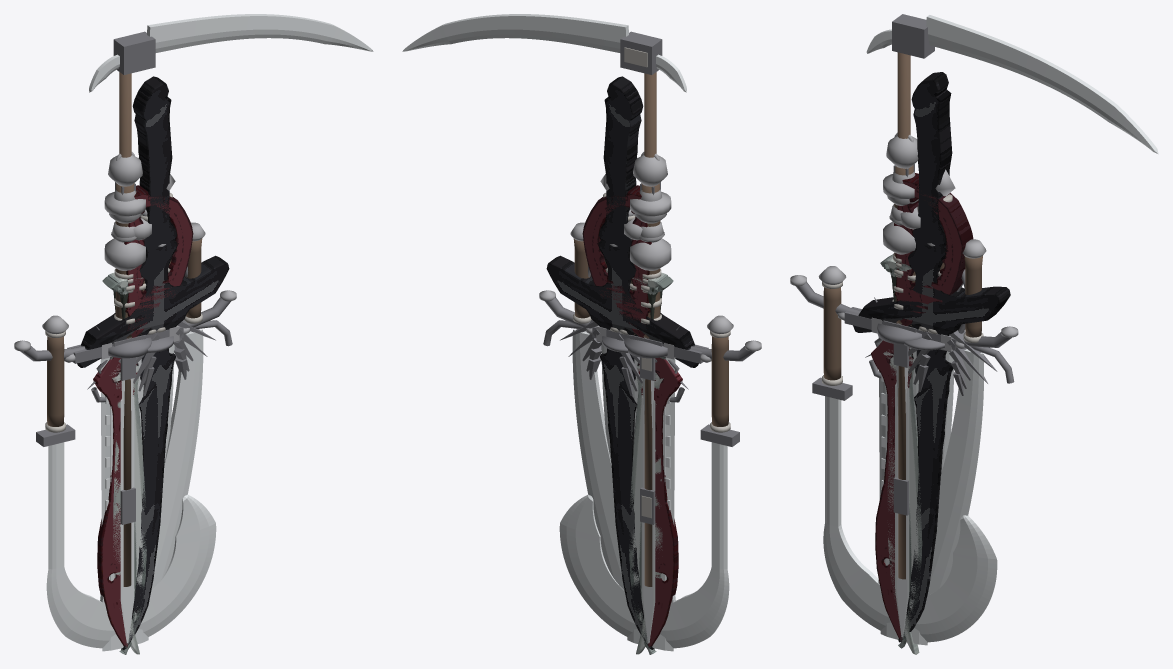
The model's file is swords.glb.
The picture shows the model from 3 angles, left to right: view 1: azimuth 30°, elevation 25°; view 2: azimuth 150°, elevation 25°; view 3: azimuth 330°, elevation 25°; orthographic projection. The views are drawn at different scales.
Visible parts, largest first — view 1: harvester_long, khopesh, nera_scythe, scissor, scimitar, zweihander, serpent_b, gladius, grisha_katana, executioner, serpent_a, falchion (+2 smaller); view 2: harvester_long, khopesh, nera_scythe, scimitar, scissor, zweihander, serpent_b, gladius, grisha_katana, executioner, falchion, flamberge (+3 smaller); view 3: harvester_long, khopesh, nera_scythe, scimitar, scissor, zweihander, serpent_b, grisha_katana, gladius, executioner, falchion, serpent_a (+1 smaller).
Part boxes in pixels (box(x1,y1,x2,y2)): harvester_long: box(77, 76, 229, 649); khopesh: box(36, 315, 216, 648); nera_scythe: box(89, 14, 373, 586); scissor: box(93, 185, 193, 647); scimitar: box(151, 222, 232, 590); zweihander: box(14, 155, 236, 642); serpent_b: box(102, 272, 146, 654); gladius: box(104, 238, 151, 643); grisha_katana: box(87, 173, 215, 463); executioner: box(100, 192, 148, 651); serpent_a: box(110, 277, 143, 654); falchion: box(100, 218, 179, 602); harvester_long: box(546, 76, 698, 649); khopesh: box(559, 315, 739, 648); nera_scythe: box(402, 14, 686, 586); scimitar: box(543, 222, 624, 590); scissor: box(582, 185, 682, 647); zweihander: box(539, 155, 761, 642); serpent_b: box(629, 272, 673, 654); gladius: box(624, 238, 671, 643); grisha_katana: box(560, 173, 688, 463); executioner: box(627, 192, 675, 651); falchion: box(596, 218, 675, 602); flamberge: box(586, 213, 711, 363); harvester_long: box(853, 72, 1010, 642); khopesh: box(812, 266, 997, 642); nera_scythe: box(866, 14, 1158, 579); scimitar: box(927, 239, 1014, 595); scissor: box(871, 173, 973, 641); zweihander: box(790, 136, 1018, 637); serpent_b: box(880, 254, 922, 648); grisha_katana: box(865, 169, 997, 472); gladius: box(877, 221, 921, 636); executioner: box(878, 174, 927, 645); falchion: box(871, 207, 952, 584); serpent_a: box(883, 263, 919, 654).
Size of the model in its own units: 0.794 by 1.32 by 0.1.
Materials: 11 (6 with a texture image).
